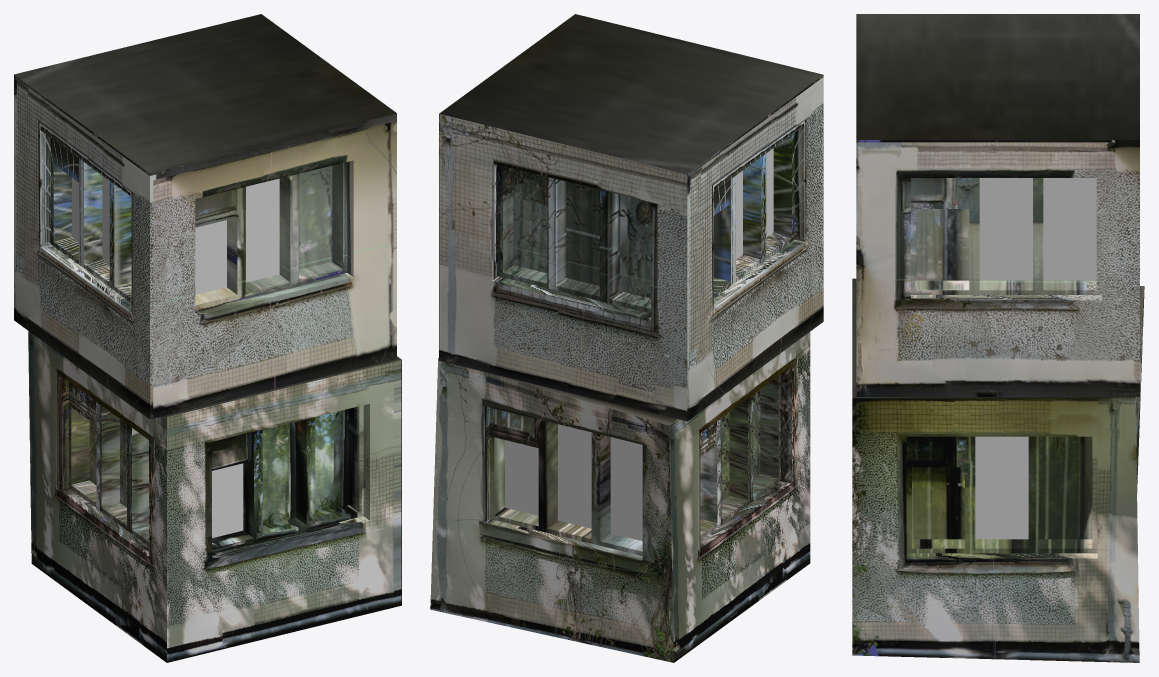
The model's file is PanelkaCubesWLight.fbx.
3 views of the same model, side by side, from view 1: azimuth 30°, elevation 25°; view 2: azimuth 150°, elevation 25°; view 3: azimuth 270°, elevation 25° (orthographic). The views are drawn at different scales.
Parts seen in each view (by area): view 1: Panelka1, Panelka2; view 2: Panelka1, Panelka2; view 3: Panelka1, Panelka2.
Boxes of the visible parts, x1,y1,x2,y2 form: Panelka1: (14, 14, 396, 419); Panelka2: (28, 331, 401, 662); Panelka1: (439, 14, 823, 421); Panelka2: (430, 332, 810, 662); Panelka1: (856, 14, 1139, 397); Panelka2: (852, 278, 1144, 662).
Size of the model in its own units: 22.78 by 42.16 by 21.54.
2 materials, 1 textured.
